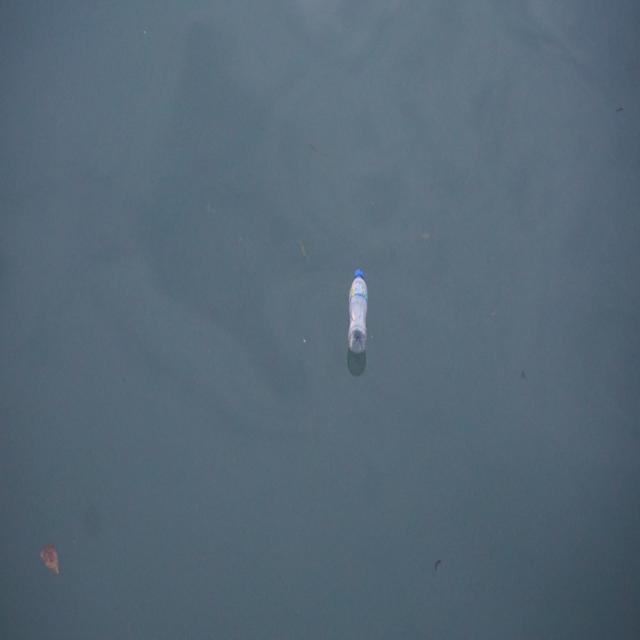Botol Plastik: (344, 260, 373, 360)
